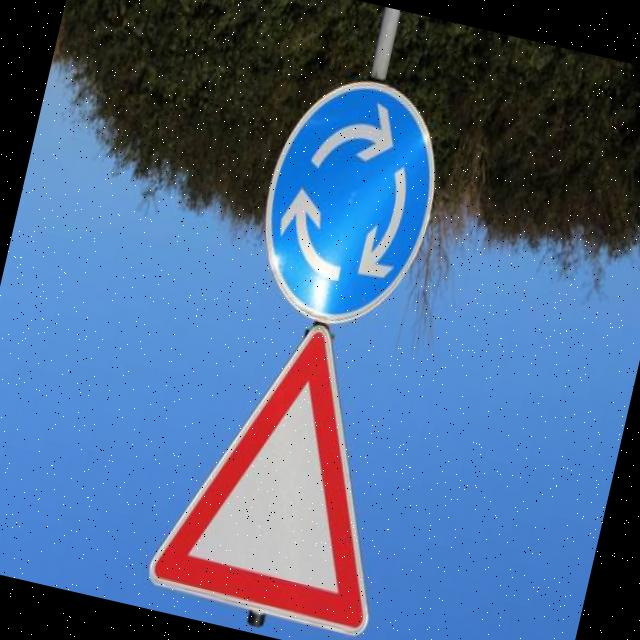give_way: (142, 295, 433, 640)
